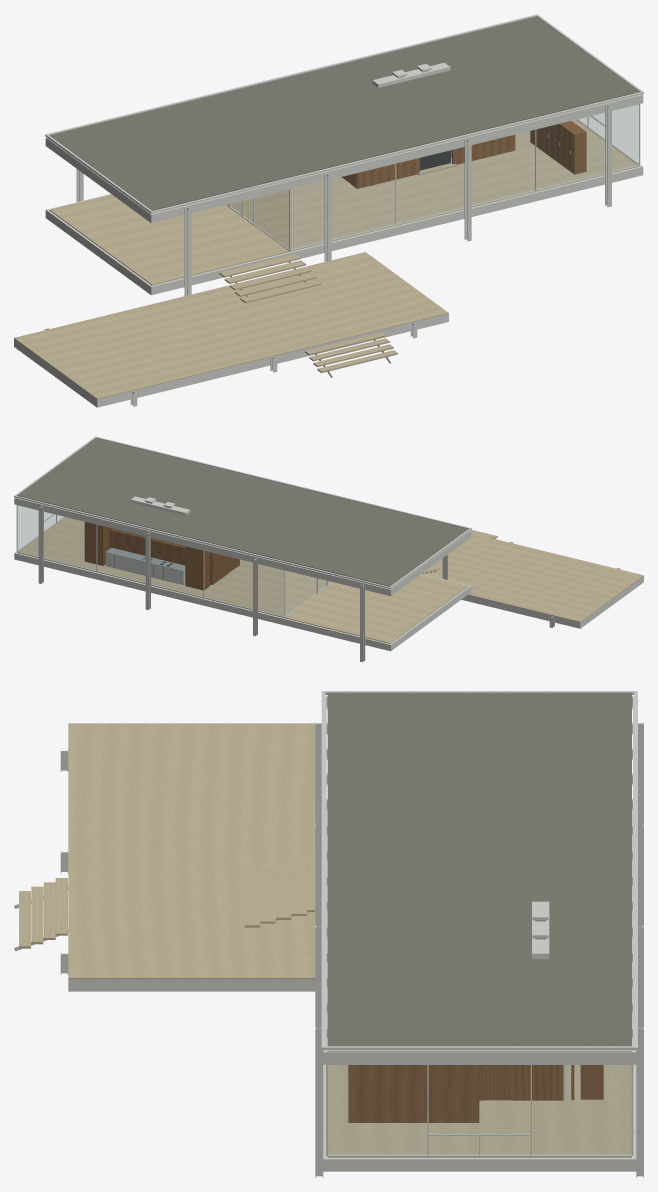
The model's file is farnsworth-house.glb.
3 views of the same model, one above another, from view 1: azimuth 30°, elevation 25°; view 2: azimuth 150°, elevation 25°; view 3: azimuth 270°, elevation 25° (orthographic). The views are drawn at different scales.
Visible parts, largest first — view 1: roof-weathering, lower-travertine, main-travertine, fixed-glass (×6), perimeter-channel (×2), roof-edge (×2), main-column (×4), open-travertine-tread (×5), terrace-channel, end-channel (×2), teak-wardrobe, hearth-side-panels (×2) (+5 smaller); view 2: roof-weathering, main-travertine, fixed-glass (×6), lower-travertine, perimeter-channel (×2), kitchen-end-storage (×2), roof-edge (×2), main-column (×4), end-channel (×2), kitchen-cabinet-face, kitchen-upper-cabinets, entry-side-light (+9 smaller); view 3: roof-weathering, lower-travertine, east-side-light (×2), main-travertine, end-channel (×2), teak-wardrobe, east-upper-light, open-travertine-tread (×8), main-column (×5), roof-edge (×3), terrace-end, hopper-window (×2) (+6 smaller).
Boxes of the visible parts, <box> form: roof-weathering: <box>50,16,639,210</box>; lower-travertine: <box>14,252,448,399</box>; main-travertine: <box>49,120,639,285</box>; fixed-glass (×6): <box>291,105,638,249</box>; perimeter-channel (×2): <box>150,94,643,295</box>; roof-edge (×2): <box>45,14,643,213</box>; main-column (×4): <box>184,104,611,295</box>; open-travertine-tread (×5): <box>219,254,321,303</box>; terrace-channel: <box>96,314,448,407</box>; end-channel (×2): <box>46,137,151,294</box>; teak-wardrobe: <box>530,121,586,174</box>; hearth-side-panels (×2): <box>357,134,514,188</box>; roof-weathering: <box>17,438,468,586</box>; main-travertine: <box>18,517,468,643</box>; fixed-glass (×6): <box>18,506,283,616</box>; lower-travertine: <box>424,533,643,622</box>; perimeter-channel (×2): <box>14,498,390,651</box>; kitchen-end-storage (×2): <box>84,522,209,590</box>; roof-edge (×2): <box>14,436,471,588</box>; main-column (×4): <box>38,505,365,662</box>; end-channel (×2): <box>390,531,471,650</box>; kitchen-cabinet-face: <box>106,553,183,584</box>; kitchen-upper-cabinets: <box>110,528,185,559</box>; entry-side-light: <box>285,571,316,615</box>; roof-weathering: <box>327,693,631,1046</box>; lower-travertine: <box>68,723,315,979</box>; east-side-light (×2): <box>328,1065,631,1154</box>; main-travertine: <box>327,1065,631,1157</box>; end-channel (×2): <box>323,1050,635,1171</box>; teak-wardrobe: <box>348,1065,479,1122</box>; east-upper-light: <box>429,1065,530,1133</box>; open-travertine-tread (×8): <box>19,858,306,948</box>; main-column (×5): <box>315,722,643,1177</box>; roof-edge (×3): <box>321,691,637,1050</box>; terrace-end: <box>69,979,314,991</box>; hopper-window (×2): <box>429,1136,530,1154</box>.
Size of the model in its own units: 30.27 by 5.31 by 17.59.
Materials: 336 (34 with a texture image).
